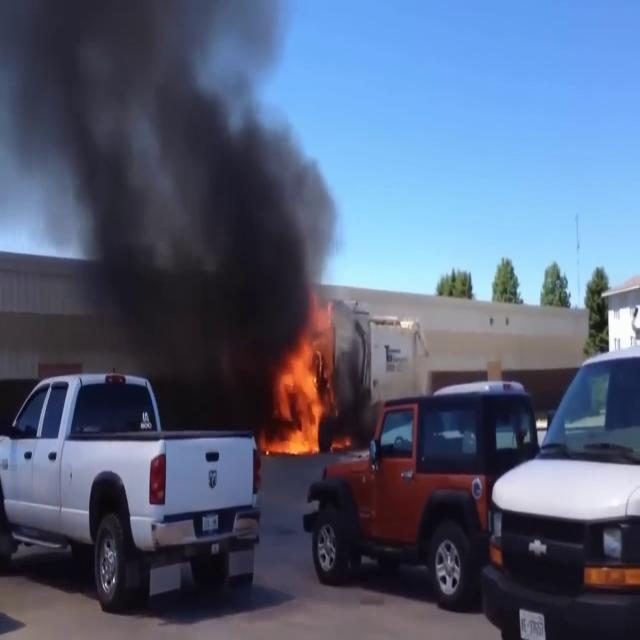Fire: (267, 324, 335, 457)
Smoke: (0, 1, 342, 398)
